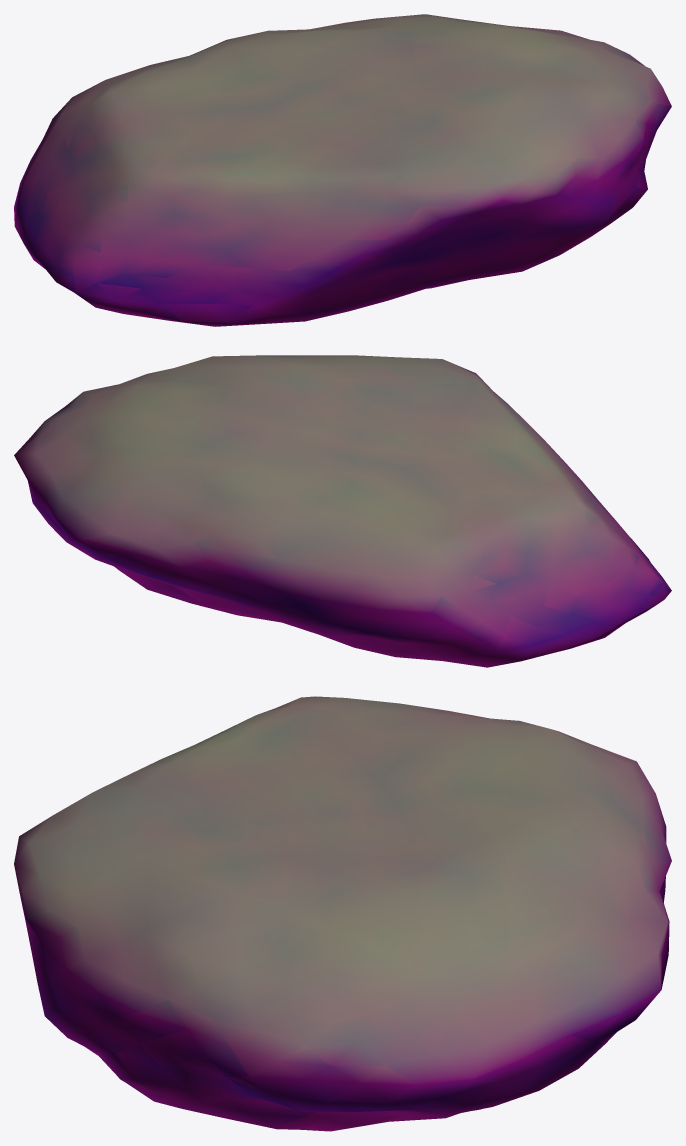
Rendered from veg_rock_c.glb.
3 views of the same model, one above another, from view 1: azimuth 30°, elevation 25°; view 2: azimuth 150°, elevation 25°; view 3: azimuth 270°, elevation 25° (orthographic). The views are drawn at different scales.
Parts seen in each view (by area): view 1: veg_rock_c_LOD0; view 2: veg_rock_c_LOD0; view 3: veg_rock_c_LOD0.
Boxes of the visible parts, box(x1,y1,x2,y2) form: veg_rock_c_LOD0: box(14, 14, 671, 326); veg_rock_c_LOD0: box(14, 355, 671, 667); veg_rock_c_LOD0: box(14, 696, 671, 1131).
Size of what is drawn, in the model's own units: 1.43 by 0.369 by 1.
